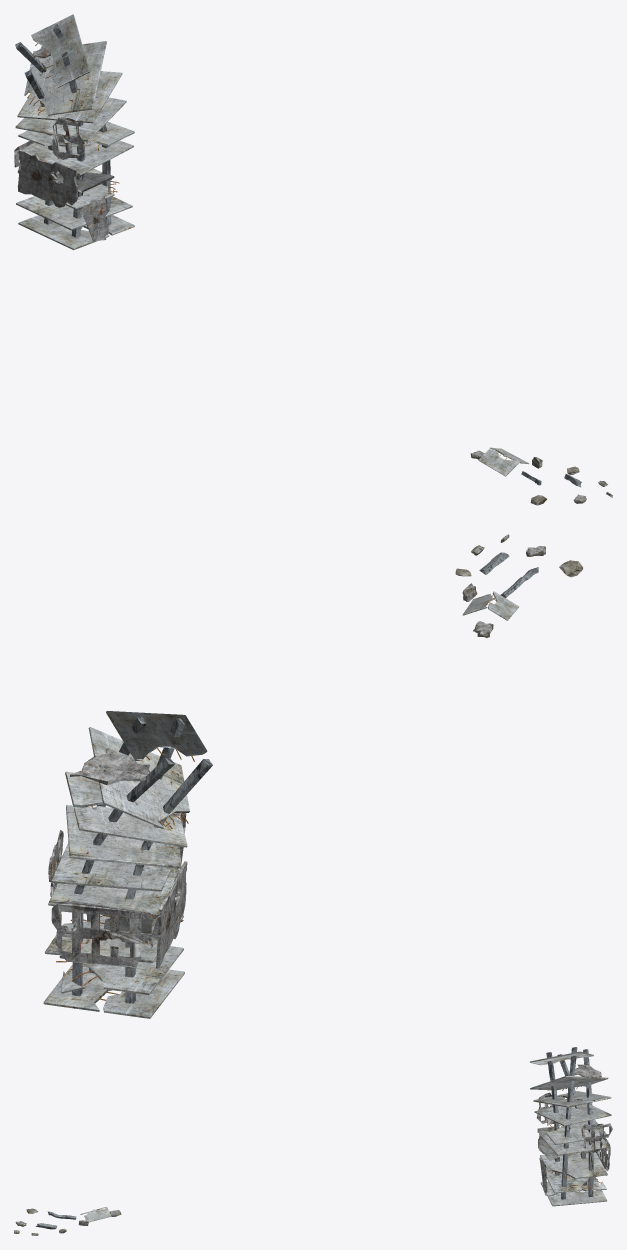
The model's file is s58-collapse-band.glb.
3 views of the same model, one above another, from view 1: azimuth 30°, elevation 25°; view 2: azimuth 150°, elevation 25°; view 3: azimuth 270°, elevation 25° (orthographic). The views are drawn at different scales.
Parts seen in each view (by area): view 1: Rear_Left_Ruined_Building_Étage_2, Rear_Left_Ruined_Building_Face_pleine_1, Rear_Left_Ruined_Building_Étage_5, Rear_Left_Ruined_Building_Colonne_3, Rear_Left_Ruined_Building_Étage_1_2, Rear_Left_Ruined_Building_Étage_4, Rear_Left_Ruined_Building_Étage_4_2, Rear_Left_Ruined_Building_Étage_1, Rear_Left_Ruined_Building_Étage_3_2, Rear_Left_Ruined_Building_Étage_3, Rear_Left_Ruined_Building_Face_pleine_2, Rear_Left_Ruined_Building_Face_3 (+1 smaller); view 2: Rear_Left_Ruined_Building_Face_1, Rear_Left_Ruined_Building_Étage_2, Rear_Left_Ruined_Building_Colonne_3, Rear_Left_Ruined_Building_Étage_4, Rear_Left_Ruined_Building_Étage_4_2, Rear_Left_Ruined_Building_Étage_1, Rear_Left_Ruined_Building_Étage_5, Rear_Left_Ruined_Building_Étage_3, Rear_Left_Ruined_Building_Étage_3_2, Rear_Left_Ruined_Building_Étage_1_2, Rear_Left_Ruined_Building_Face_pleine_3, Rear_Left_Ruined_Building_Face_pleine_1 (+2 smaller); view 3: Rear_Left_Ruined_Building_Colonne_3, Rear_Left_Ruined_Building_Étage_2_2, Rear_Left_Ruined_Building_Étage_1, Rear_Left_Ruined_Building_Étage_4_2, Rear_Left_Ruined_Building_Étage_3, Rear_Left_Ruined_Building_Étage_3_2, Rear_Left_Ruined_Building_Étage_4, Rear_Left_Ruined_Building_Étage_1_2, Rear_Left_Ruined_Building_Étage_2, Rear_Left_Ruined_Building_Face_2, Rear_Left_Ruined_Building_Étage_5, Rear_Left_Ruined_Building_Face_pleine_3 (+1 smaller).
Boxes of the visible parts, x1,y1,x2,y2 form: Rear_Left_Ruined_Building_Étage_2: (24, 41, 106, 115); Rear_Left_Ruined_Building_Face_pleine_1: (17, 150, 78, 207); Rear_Left_Ruined_Building_Étage_5: (31, 14, 89, 87); Rear_Left_Ruined_Building_Colonne_3: (15, 24, 111, 237); Rear_Left_Ruined_Building_Étage_1_2: (17, 140, 133, 175); Rear_Left_Ruined_Building_Étage_4: (17, 71, 122, 123); Rear_Left_Ruined_Building_Étage_4_2: (18, 215, 134, 250); Rear_Left_Ruined_Building_Étage_1: (15, 97, 126, 141); Rear_Left_Ruined_Building_Étage_3_2: (16, 196, 132, 230); Rear_Left_Ruined_Building_Étage_3: (18, 122, 134, 151); Rear_Left_Ruined_Building_Face_pleine_2: (75, 195, 109, 241); Rear_Left_Ruined_Building_Face_3: (51, 117, 84, 159); Rear_Left_Ruined_Building_Face_1: (51, 900, 161, 968); Rear_Left_Ruined_Building_Étage_2: (88, 727, 189, 828); Rear_Left_Ruined_Building_Colonne_3: (72, 717, 212, 1003); Rear_Left_Ruined_Building_Étage_4: (65, 771, 187, 847); Rear_Left_Ruined_Building_Étage_4_2: (43, 965, 184, 1018); Rear_Left_Ruined_Building_Étage_1: (66, 805, 181, 868); Rear_Left_Ruined_Building_Étage_5: (106, 711, 207, 761); Rear_Left_Ruined_Building_Étage_3: (51, 842, 170, 891); Rear_Left_Ruined_Building_Étage_3_2: (56, 946, 183, 994); Rear_Left_Ruined_Building_Étage_1_2: (48, 866, 179, 914); Rear_Left_Ruined_Building_Face_pleine_3: (70, 748, 150, 784); Rear_Left_Ruined_Building_Face_pleine_1: (156, 861, 187, 968); Rear_Left_Ruined_Building_Colonne_3: (546, 1047, 593, 1199); Rear_Left_Ruined_Building_Étage_2_2: (540, 1152, 607, 1179); Rear_Left_Ruined_Building_Étage_1: (534, 1103, 611, 1126); Rear_Left_Ruined_Building_Étage_4_2: (540, 1177, 607, 1206); Rear_Left_Ruined_Building_Étage_3: (544, 1118, 606, 1144); Rear_Left_Ruined_Building_Étage_3_2: (546, 1169, 606, 1193); Rear_Left_Ruined_Building_Étage_4: (533, 1091, 611, 1107); Rear_Left_Ruined_Building_Étage_1_2: (539, 1132, 610, 1155); Rear_Left_Ruined_Building_Étage_2: (530, 1076, 608, 1090); Rear_Left_Ruined_Building_Face_2: (581, 1123, 612, 1152); Rear_Left_Ruined_Building_Étage_5: (529, 1051, 593, 1065); Rear_Left_Ruined_Building_Face_pleine_3: (574, 1064, 603, 1080).
Size of the model in its own units: 17.48 by 18 by 68.92.
5 materials, 5 textured.
